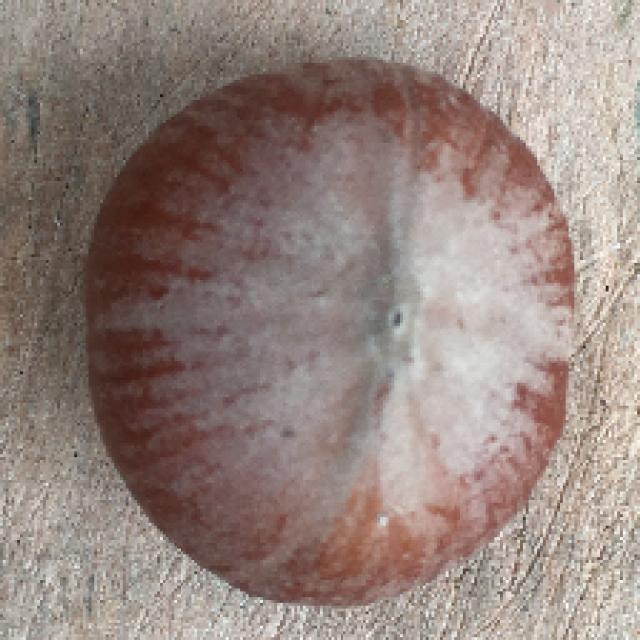QualityHazelnut: (77, 55, 577, 610)
